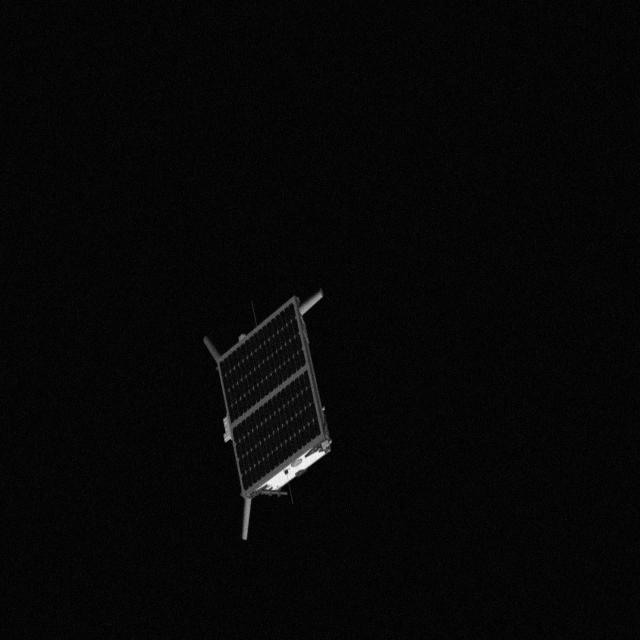satellite: (180, 282, 352, 546)
